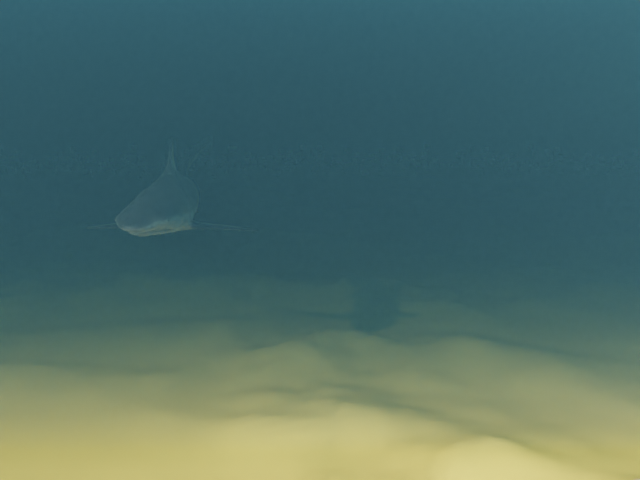Carribean Shark.001: (85, 138, 257, 236)
